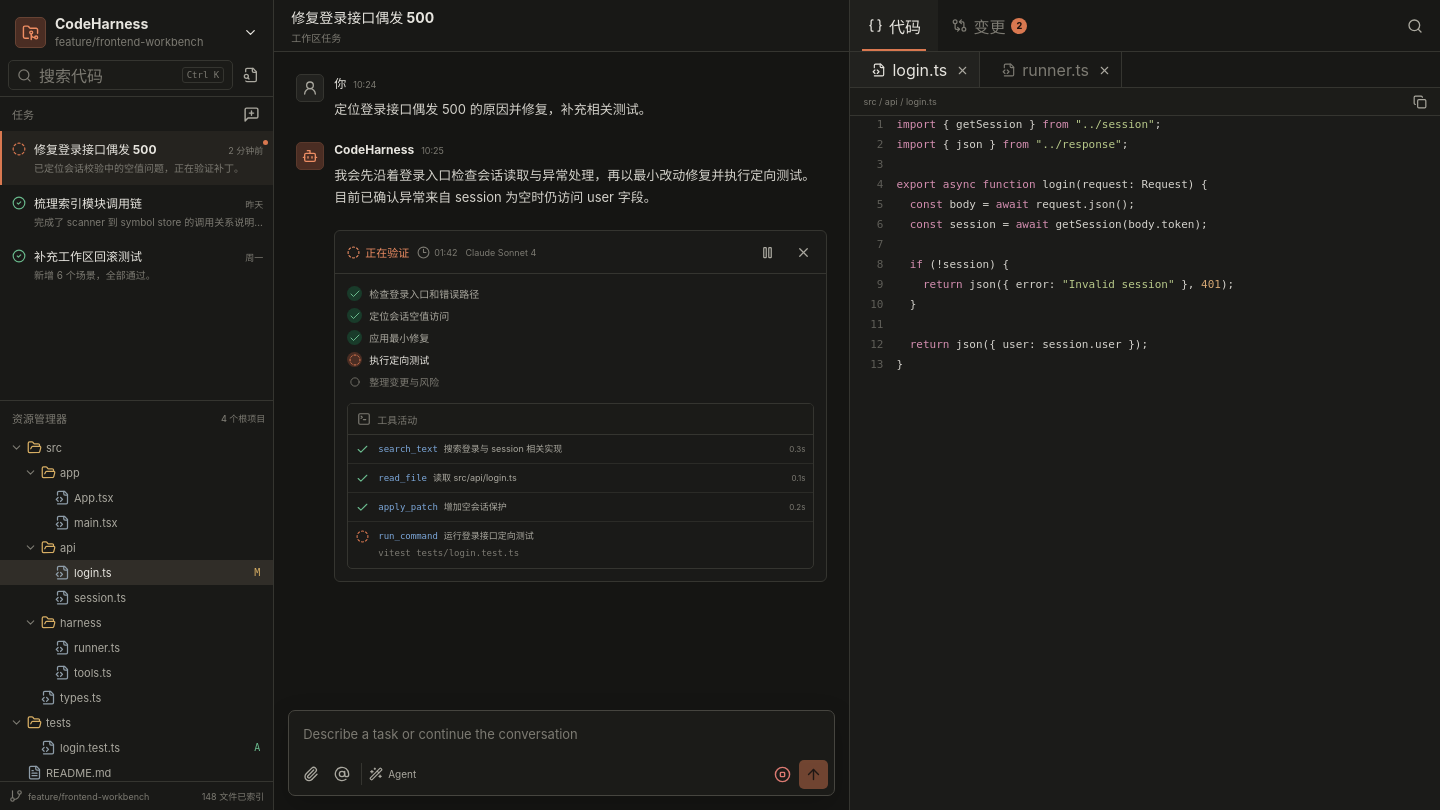
Test: CodeHarness workbench › confirms before cancelling the active task
Expected: the heading "修复登录接口偶发 500" is shown, left=291, top=6, right=434, bottom=26
Click the button named "取消任务" at (803, 252), box left=789, top=238, right=817, bottom=266
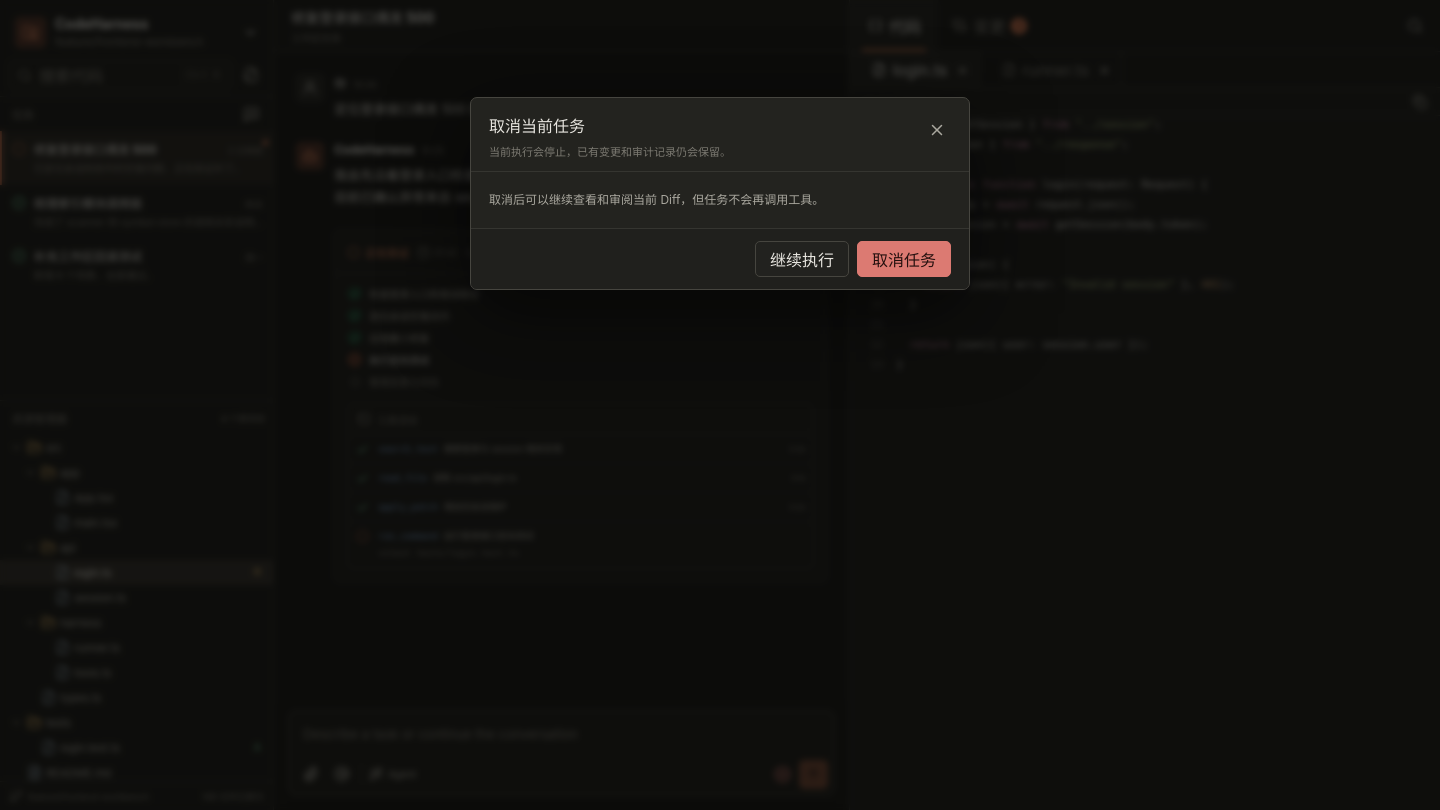
Expected: the dialog "取消当前任务" is shown, left=470, top=97, right=970, bottom=290
Click the button "取消任务" at (904, 259), box left=857, top=241, right=951, bottom=277
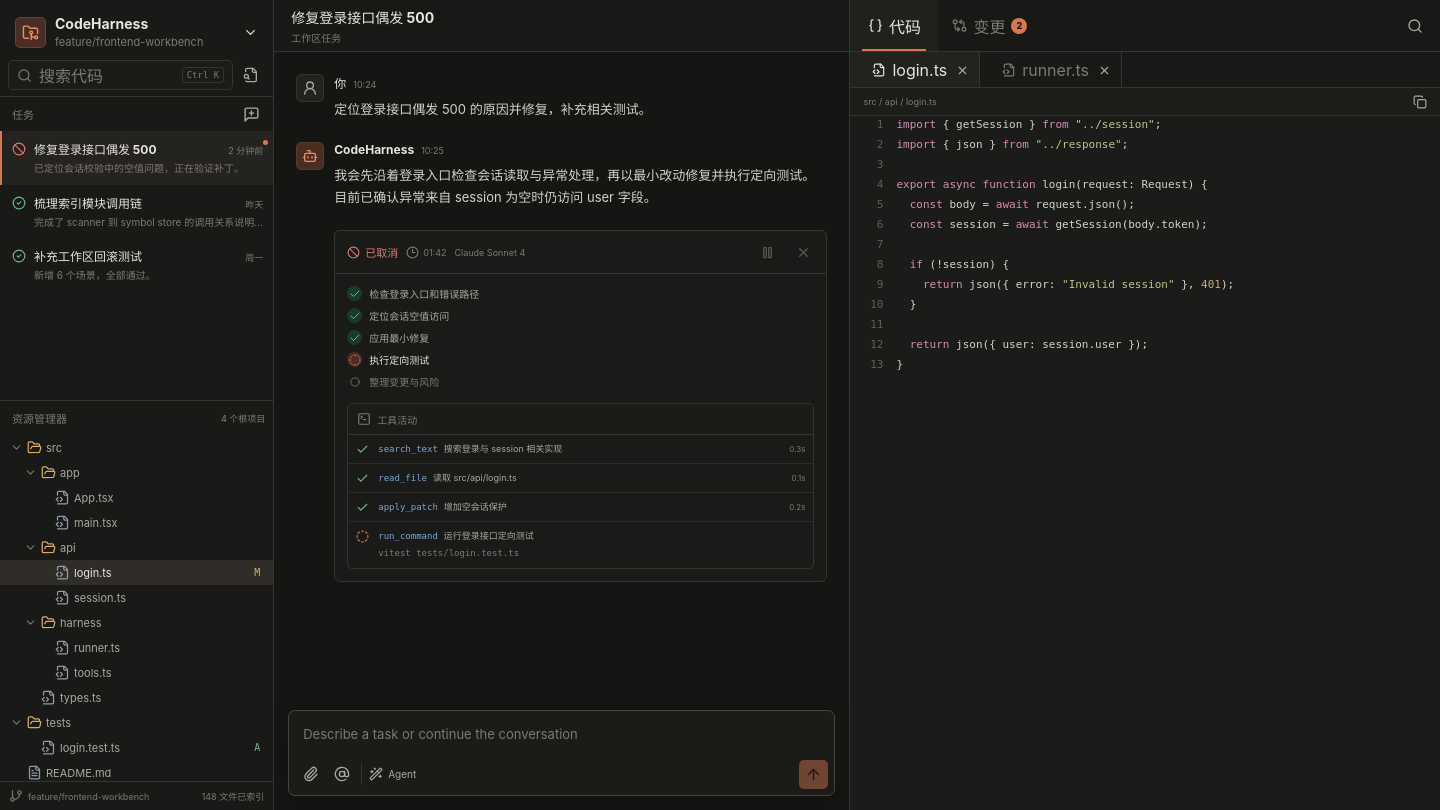
Expected: the text "已取消" is shown, left=347, top=244, right=398, bottom=260
